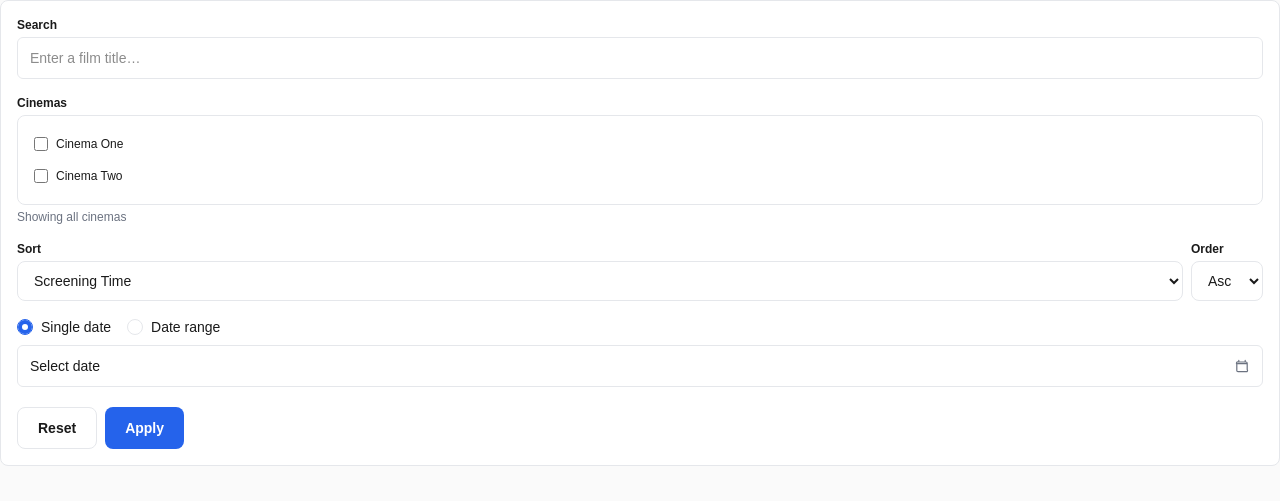
Filters component › selecting and clearing cinemas updates the summary text
Expected: the text "Showing all cinemas" is shown, x1=17 y1=210 x2=126 y2=224
Click first cinema checkbox
Click the checkbox labelled "Cinema One": {"x": 41, "y": 144} x1=34 y1=137 x2=48 y2=151
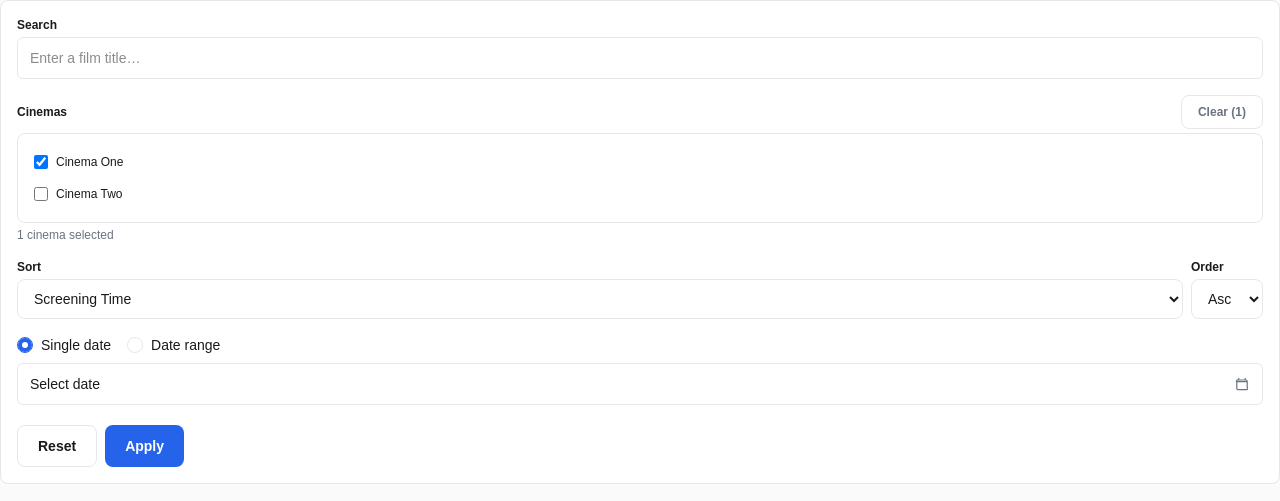
Now the text "1 cinema selected" is shown, box x1=17 y1=228 x2=114 y2=242
Click the button "Clear (1)": {"x": 1222, "y": 112} x1=1181 y1=95 x2=1263 y2=129
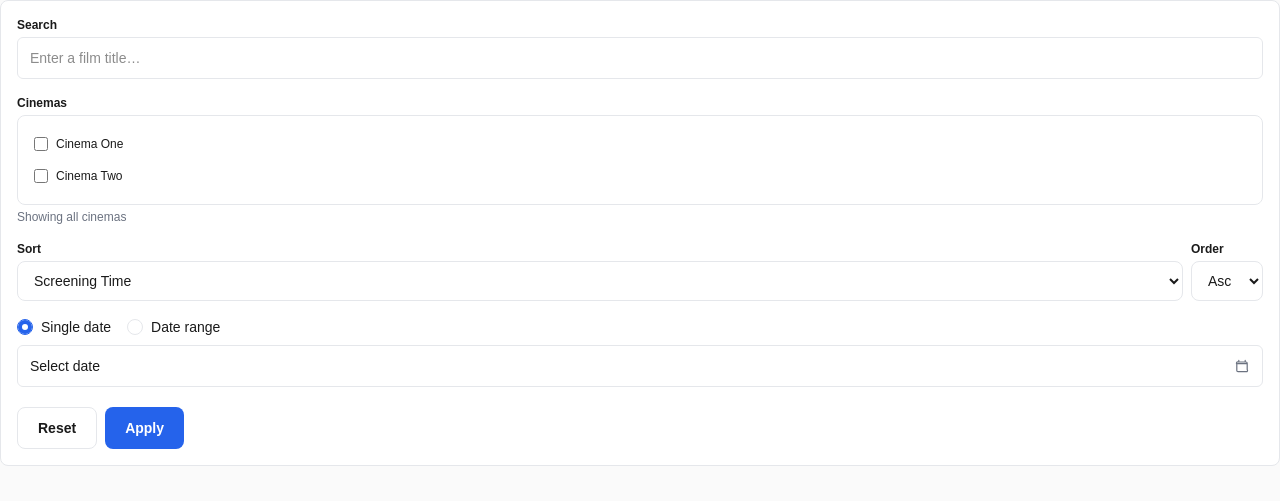
Now the text "Showing all cinemas" is shown, box x1=17 y1=210 x2=126 y2=224
